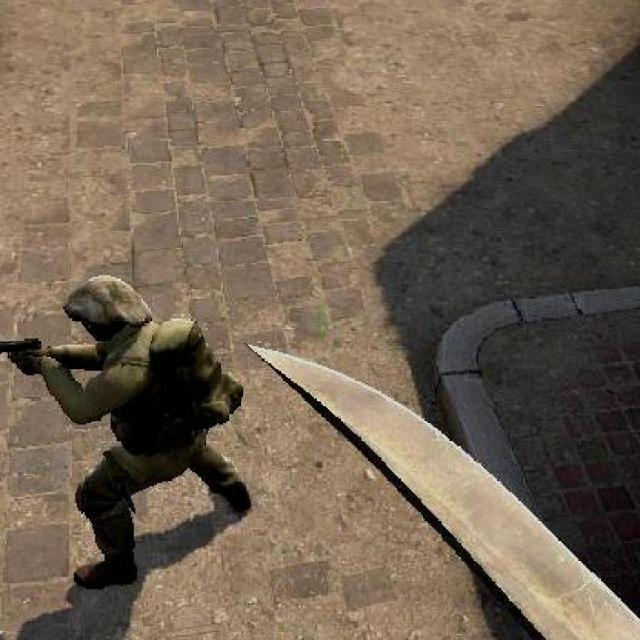CT: (17, 269, 230, 537)
CT_HEAD: (54, 275, 152, 340)
